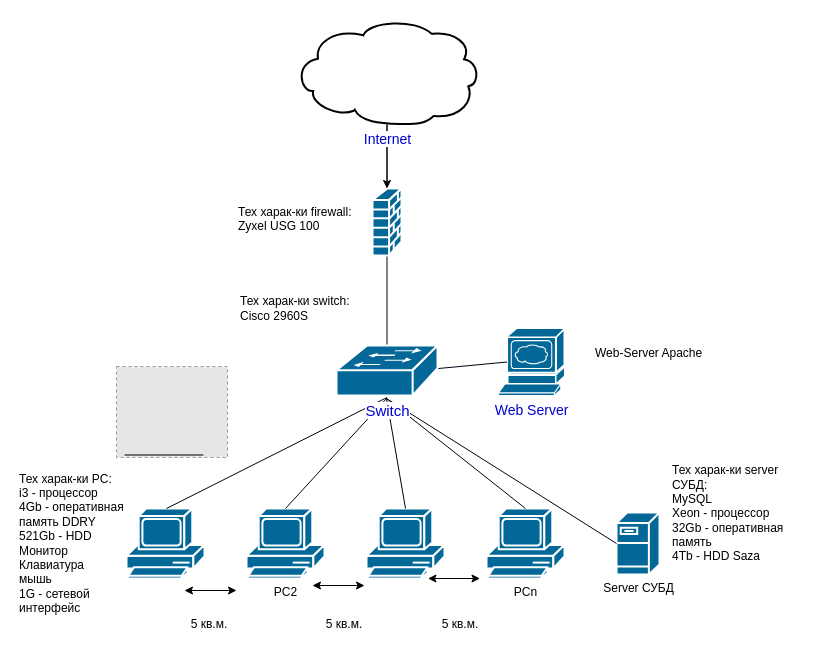
The diagram is 822 pixels wide and 656 high, and some of its shapes have lost their labels. Grey dashed boxes stand in for pictures. The box of each missing label's shape, as (x1, y1, x2, y2) in pixels:
Firewall: (371, 187, 402, 256)
PC1: (125, 507, 205, 579)
PC3: (365, 507, 445, 579)
